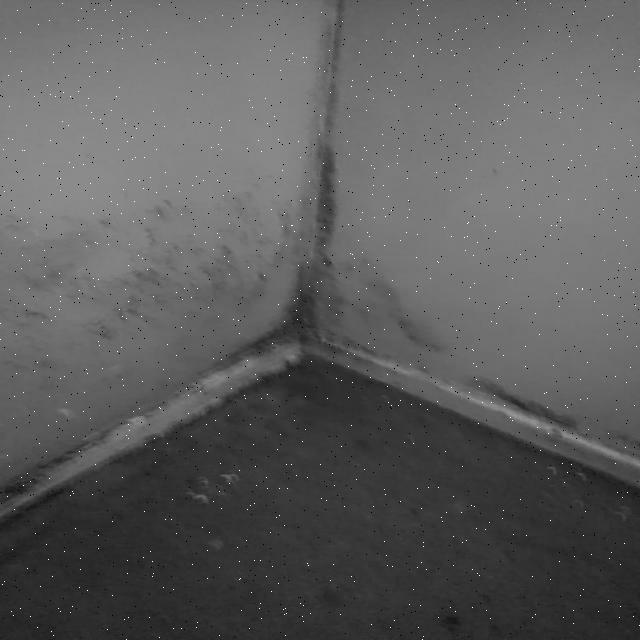stain marks: (0, 188, 292, 340), (286, 0, 352, 361), (447, 376, 593, 450), (356, 255, 446, 365), (0, 436, 109, 504), (3, 342, 74, 400), (182, 342, 296, 374)
